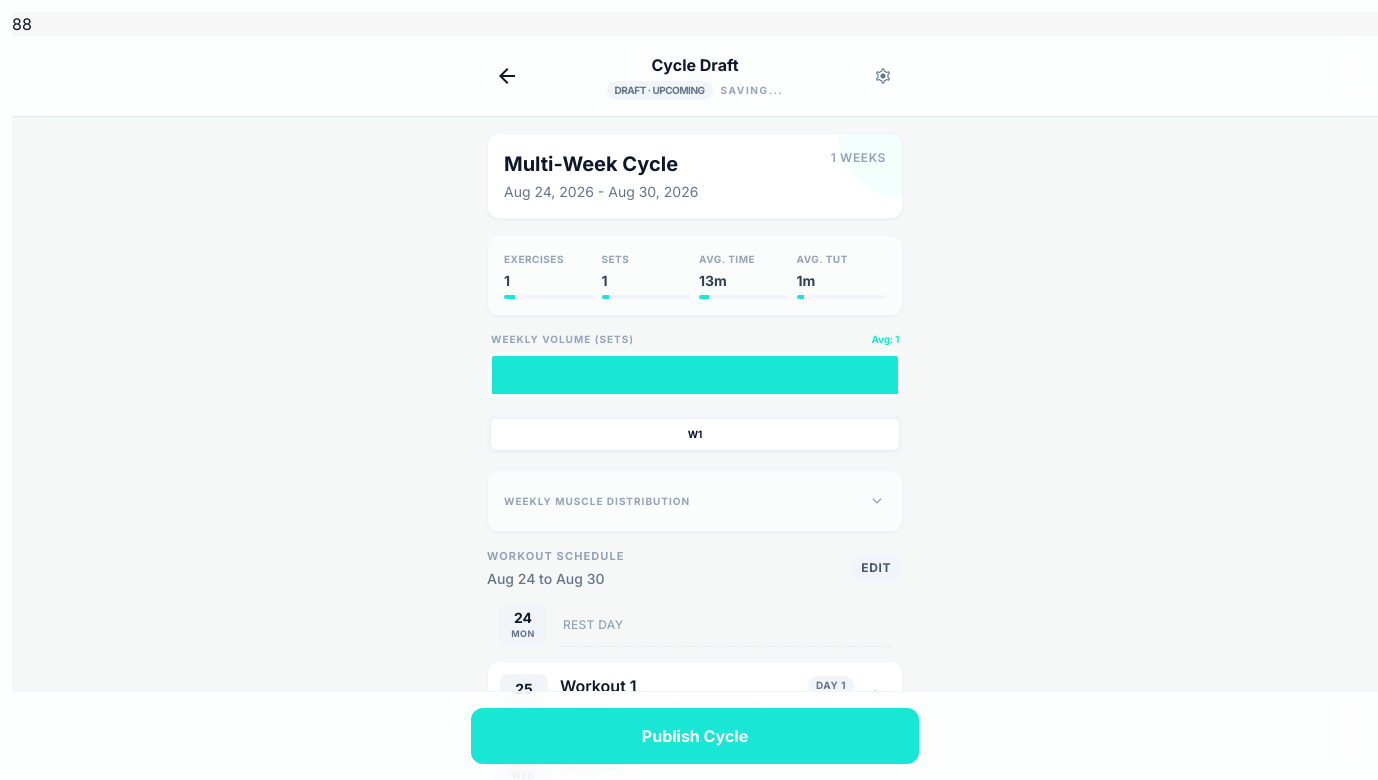
Test: ManualBuilderMulti workout terminal-action barrier › a document revision conflict reached during Publish blocks without retry
Click the button "Publish Cycle" at point(695, 736), box [471,708,919,764]
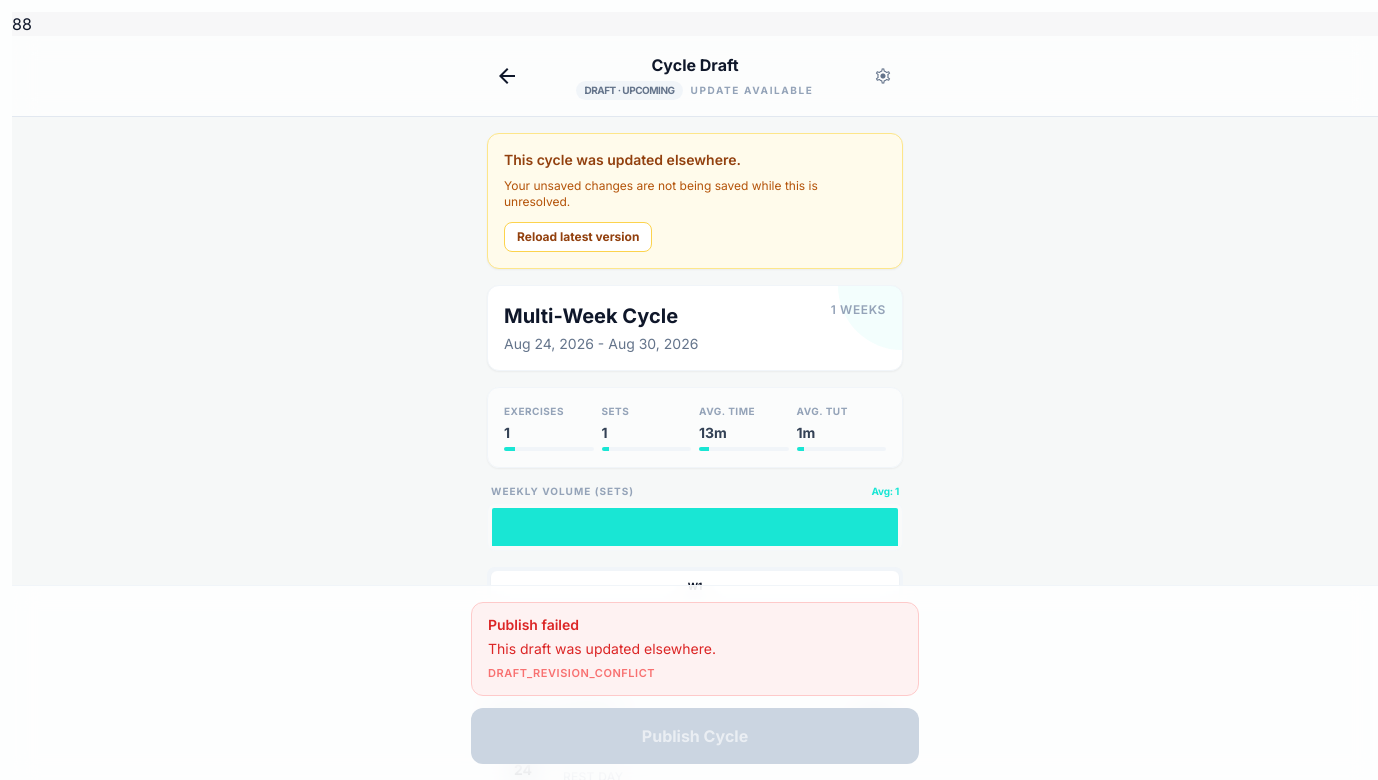
Check: the text "This draft was updated elsewhere." is shown, box [488,640,716,657]
